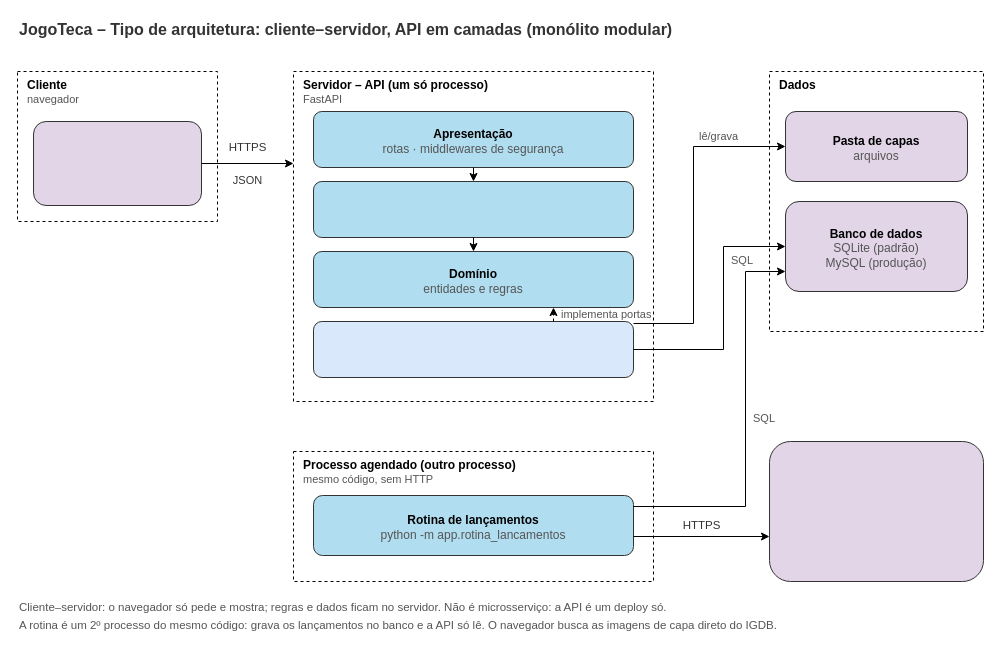
Image size: 1001x652. Some labels were removed from this diagram. The shapes that lost their labels are listed below. From the top down, each one's centre as x and y in pixels, then its label:
At [117,163]: "Front-end SPA React + TypeScript Vite · react-router".
At [473,209]: "Aplicação casos de uso".
At [473,349]: "Infraestrutura repositórios · hash · JWT · capas".
At [876,511]: "Serviços externos Twitch OAuth (token) IGDB (jogos, capas) internet".
